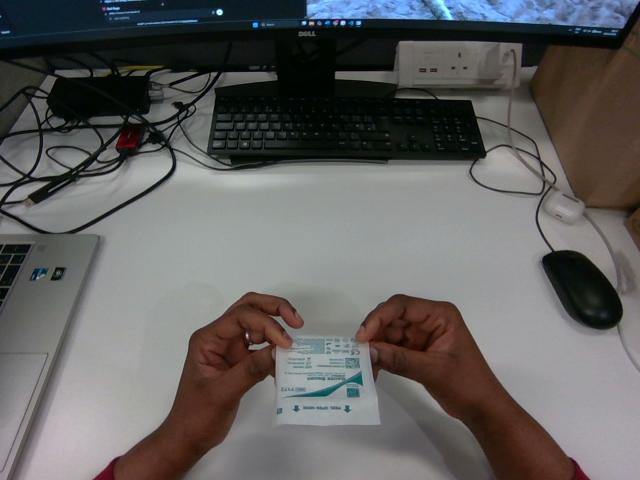gauze: (274, 335, 379, 425)
